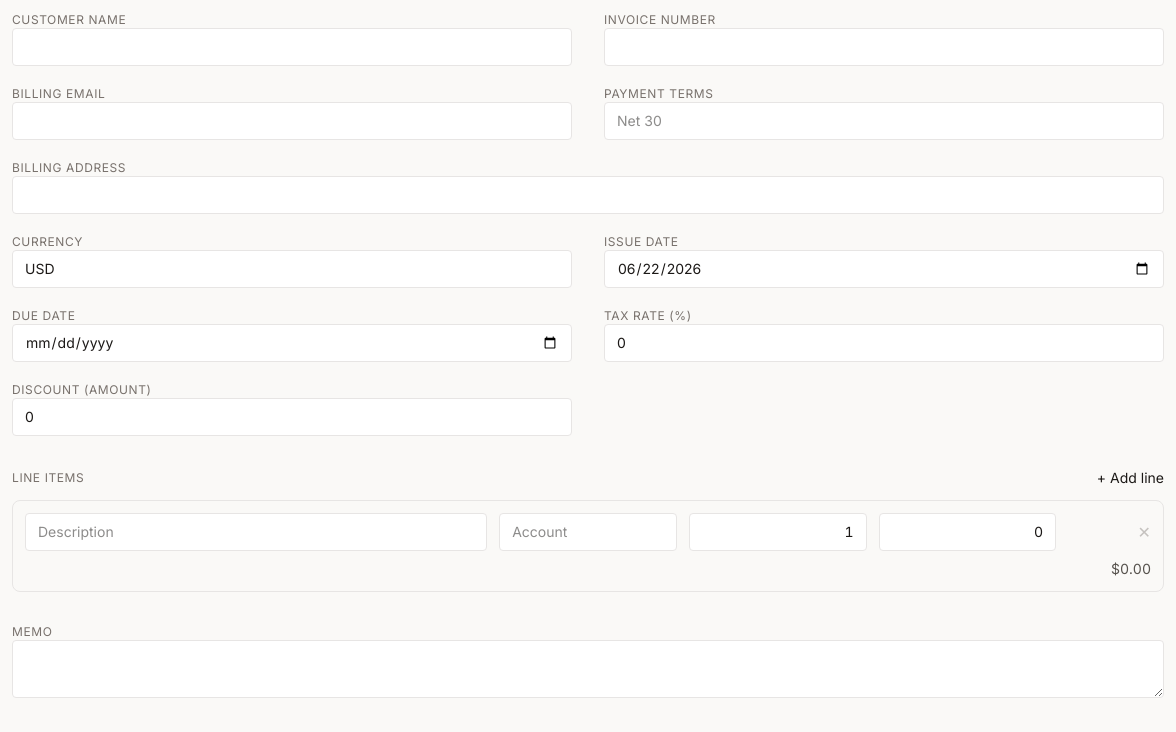
Test: InvoiceForm blur validation › flags a field (red border + aria-invalid) on blur, not untouched ones
The width and height of the screenshot is (1176, 732).
Click the field labelled "Customer name". click: (292, 47)
box: left=12, top=28, right=572, bottom=66
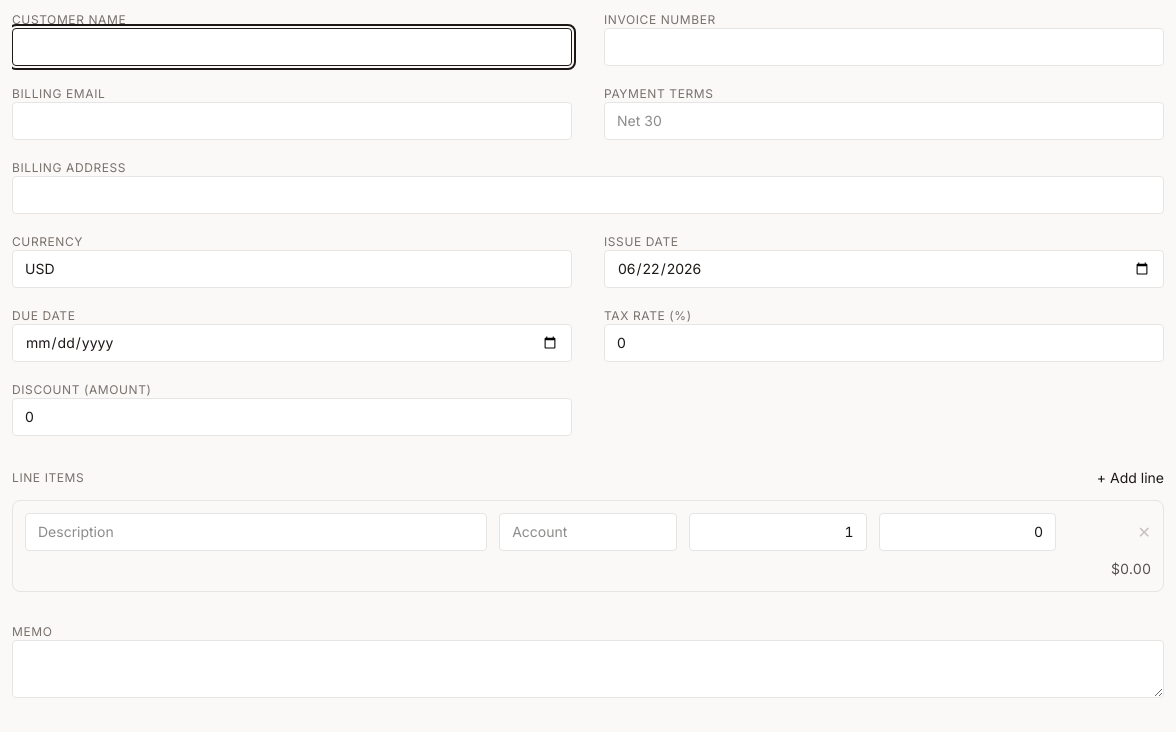
Press Tab
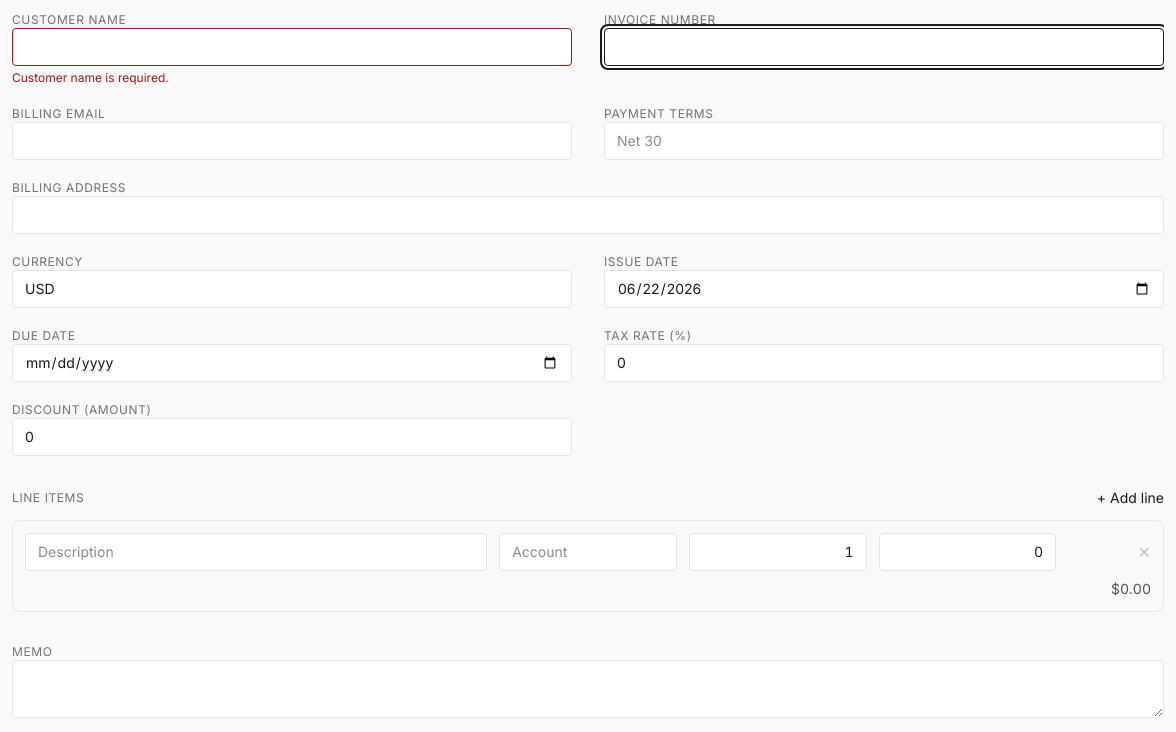
Expected: the text "Customer name is required." is shown, left=12, top=70, right=169, bottom=85
